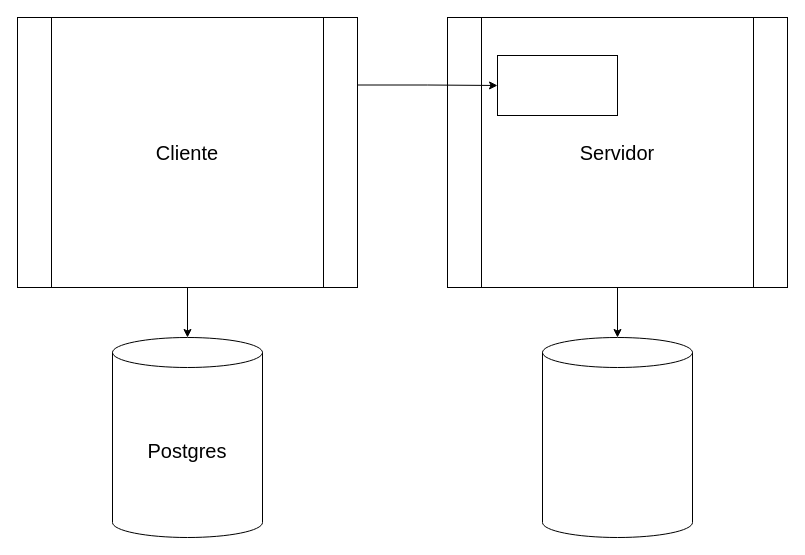
Some shapes in this 805 by 555 pixel diagram are drawn without their labels. Each missing label, with the centre of its shape:
"MongoDB" goes at (x=617, y=437).
"Socket" goes at (x=557, y=85).
